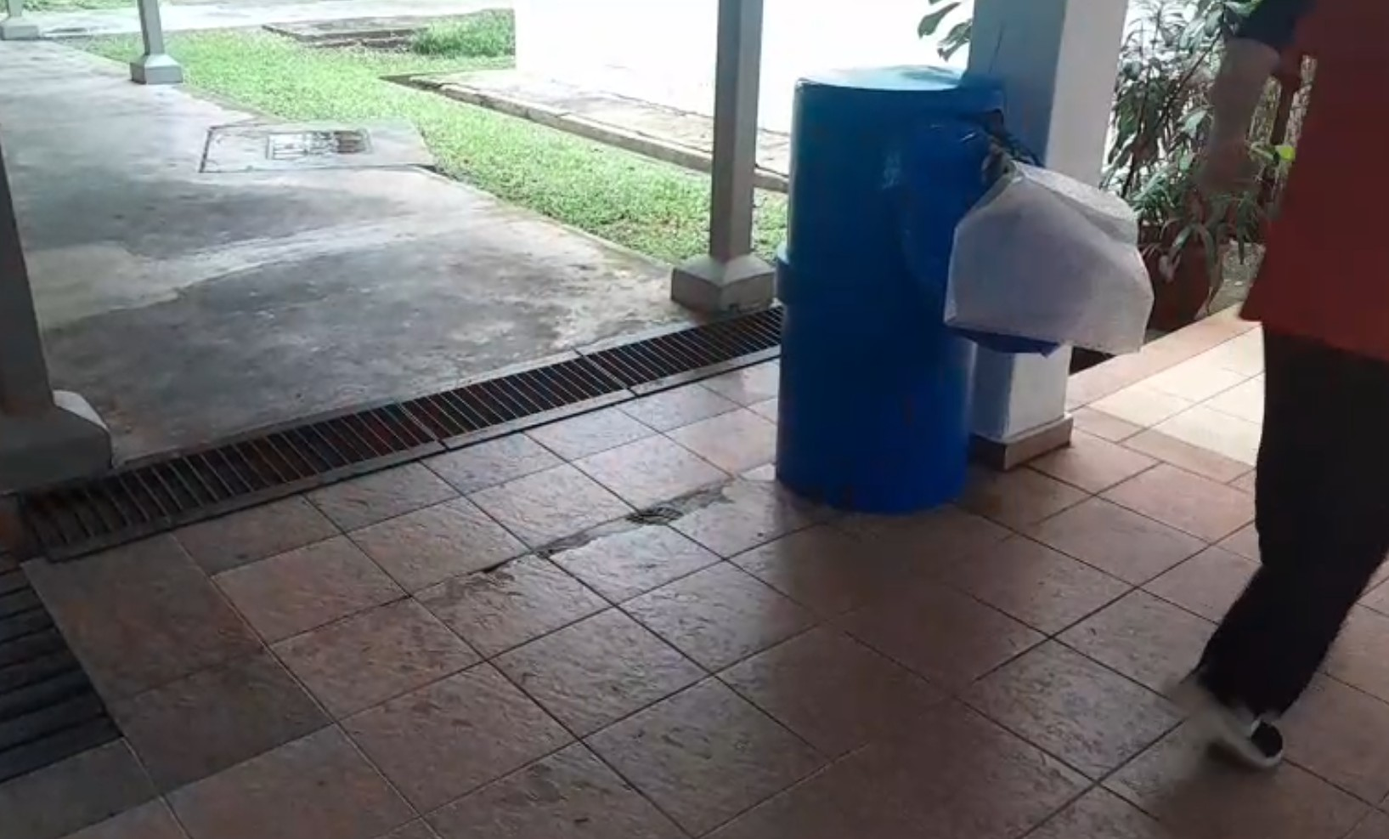bin_full: (776, 68, 1151, 513)
